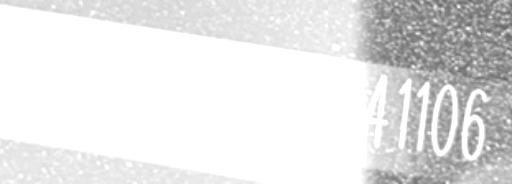letter: (271, 58, 305, 134), (34, 21, 66, 100), (303, 60, 335, 139), (459, 84, 491, 163), (362, 72, 392, 154), (146, 40, 178, 116), (240, 52, 270, 130), (332, 65, 362, 143), (120, 36, 150, 110), (176, 45, 206, 119), (430, 82, 458, 158), (92, 31, 120, 105), (64, 29, 92, 100), (206, 48, 226, 122), (395, 75, 413, 153), (225, 50, 243, 124), (414, 78, 432, 152)
